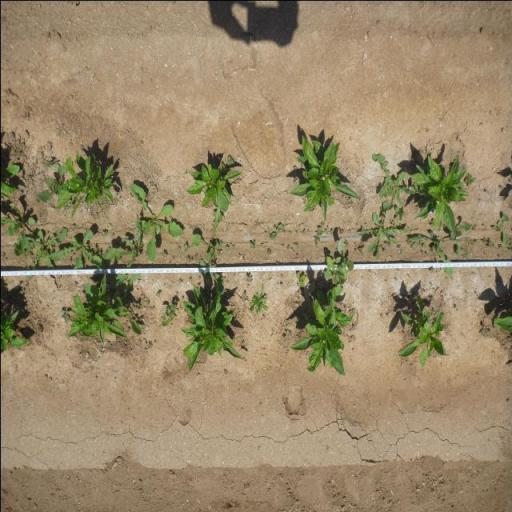plant: (287, 131, 359, 221), (288, 287, 354, 378), (178, 294, 242, 376), (407, 152, 468, 233), (54, 150, 119, 218), (66, 273, 126, 345), (395, 295, 447, 371), (186, 160, 242, 208), (0, 310, 30, 352), (0, 162, 19, 200)
weed: (127, 183, 184, 263), (188, 194, 229, 294), (404, 218, 470, 277), (100, 213, 143, 289), (357, 198, 410, 259), (370, 150, 428, 205), (23, 222, 68, 283), (50, 224, 105, 269), (322, 234, 356, 295), (0, 200, 36, 256), (117, 266, 143, 335), (35, 165, 67, 202), (248, 283, 269, 316), (490, 211, 509, 245), (158, 302, 176, 328), (460, 236, 476, 259), (267, 222, 286, 240), (314, 220, 324, 248), (294, 270, 307, 288), (394, 204, 406, 222), (42, 158, 58, 169), (478, 325, 492, 336), (58, 309, 70, 321), (482, 236, 492, 250), (224, 154, 235, 165), (464, 172, 473, 185), (216, 240, 223, 256), (406, 241, 417, 250), (63, 200, 71, 212), (24, 246, 32, 257), (427, 217, 435, 228), (248, 239, 256, 249), (182, 240, 189, 251), (245, 273, 253, 282), (358, 244, 364, 256), (295, 313, 302, 323), (322, 224, 329, 234), (396, 246, 403, 256), (131, 302, 139, 310), (283, 328, 291, 336), (383, 240, 391, 248), (389, 218, 395, 228), (100, 229, 107, 237), (90, 245, 97, 252), (154, 289, 160, 297), (337, 225, 343, 233), (292, 163, 298, 170), (185, 254, 190, 262), (344, 238, 348, 248), (160, 252, 166, 258), (146, 343, 152, 349), (224, 244, 230, 250), (292, 177, 298, 183), (242, 290, 246, 298), (330, 226, 334, 234), (280, 335, 286, 340), (286, 243, 290, 250), (429, 268, 434, 273), (20, 288, 24, 294), (138, 316, 142, 322), (266, 248, 270, 254), (292, 242, 298, 246), (498, 244, 502, 250), (454, 304, 457, 311), (429, 296, 434, 300), (0, 253, 3, 259), (302, 227, 304, 234), (145, 302, 148, 306), (194, 254, 196, 260), (278, 244, 284, 246), (126, 328, 128, 332)
